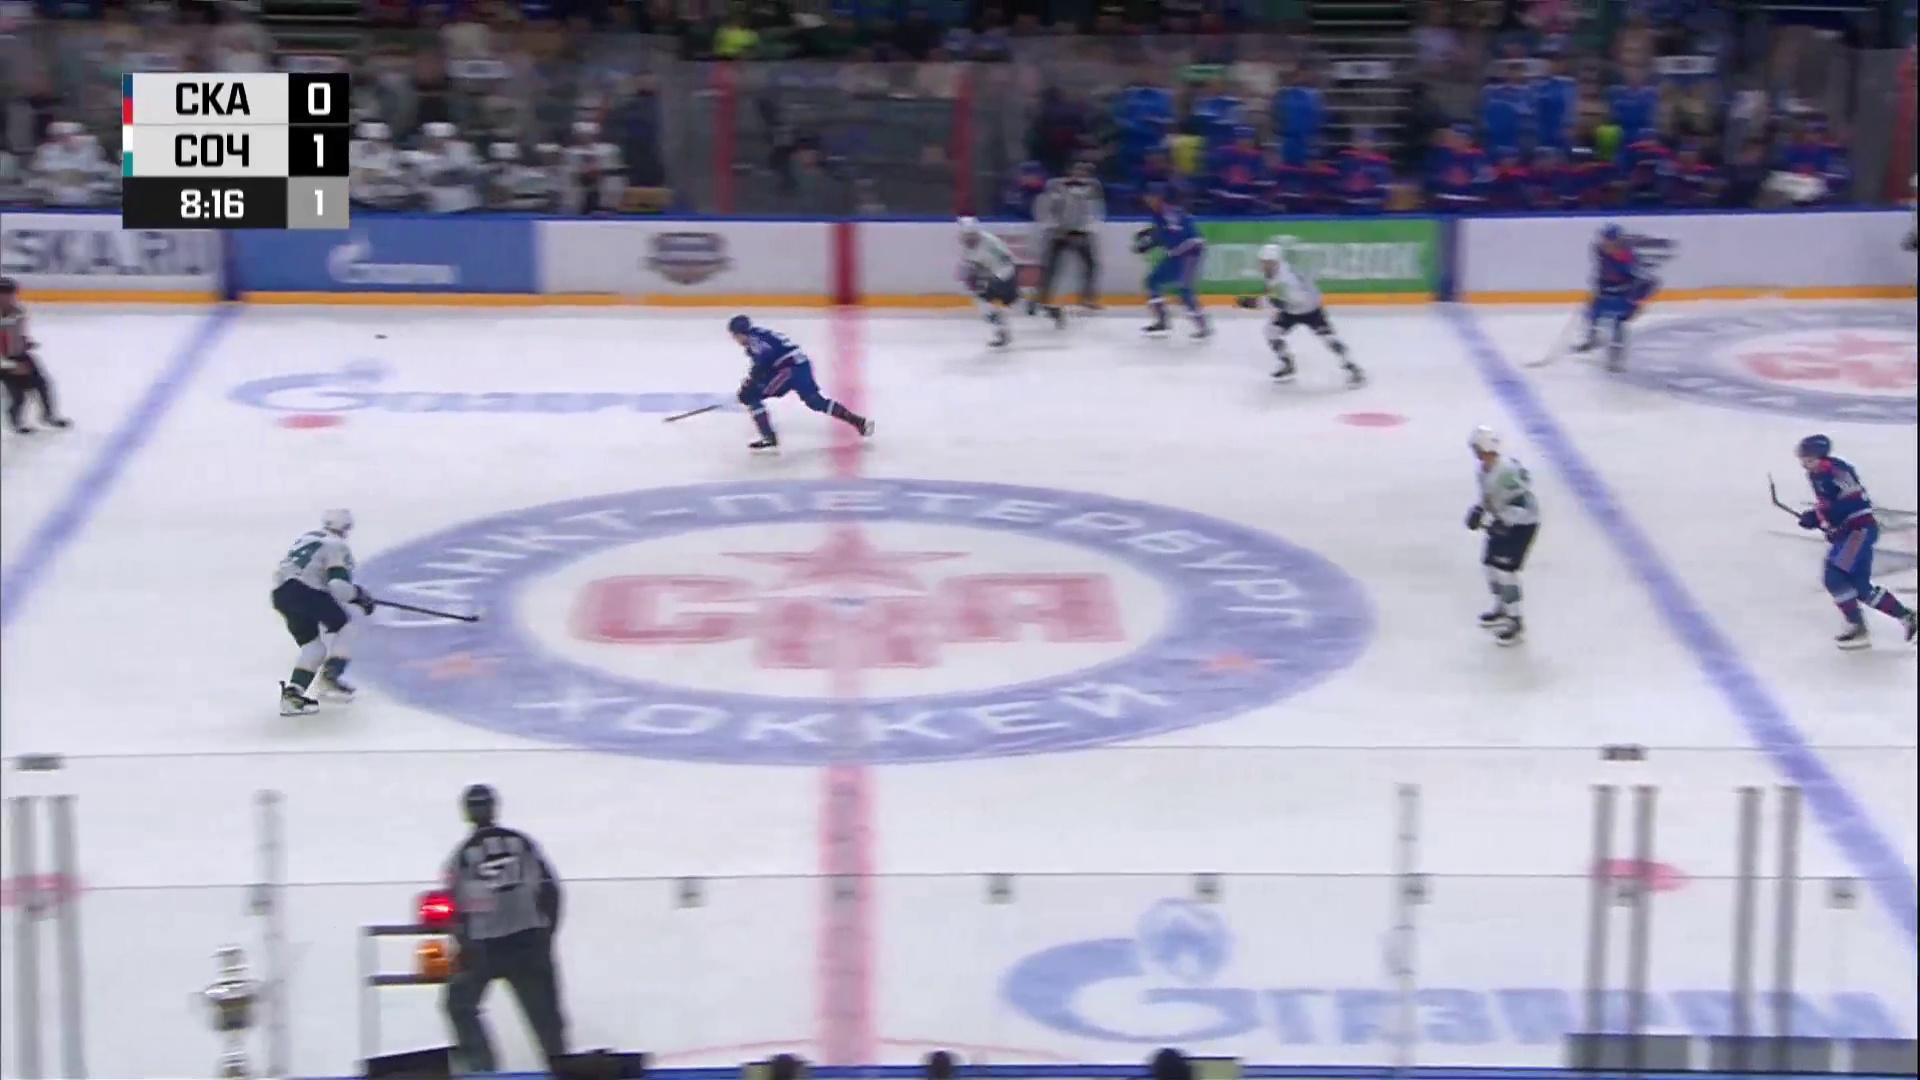ball: (375, 335, 388, 339)
